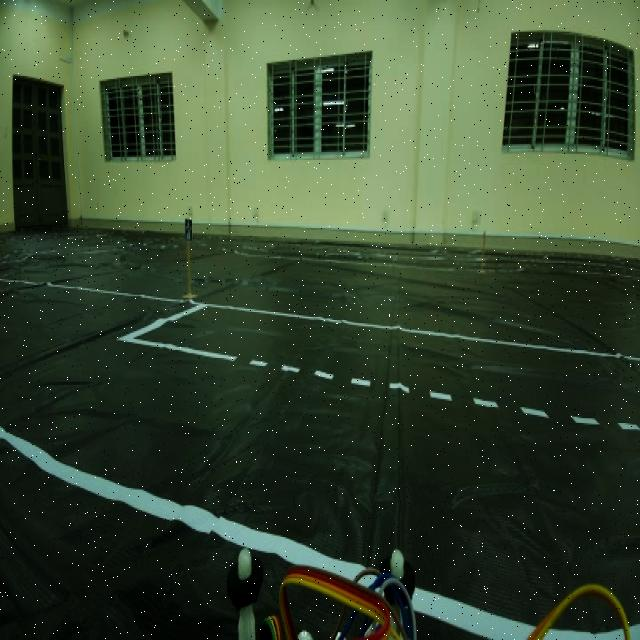highway_exit: (183, 207, 197, 251)
